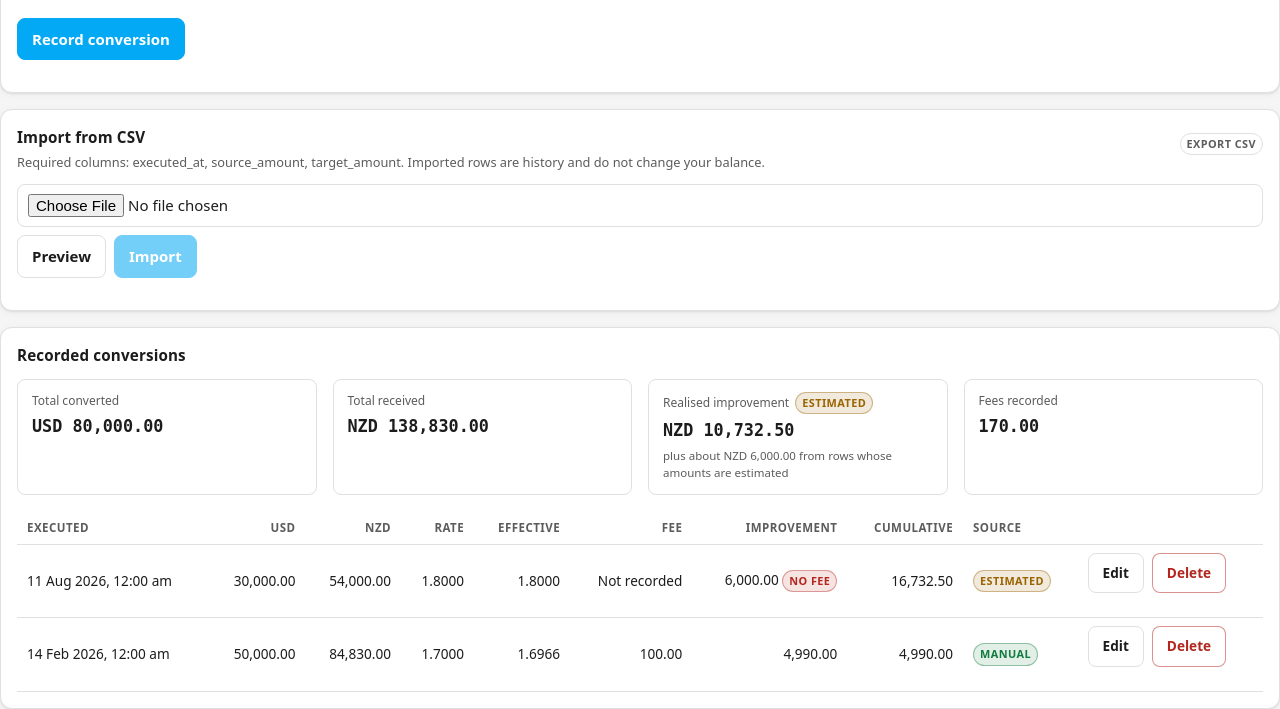
Test: ConversionsPage › warns that an edit does not move the balance
(page scrolled)
Check: the text "30,000.00" is shown, box [234,571,295,590]
Step 1. Click the button "Edit" in the row of "11 Aug 2026, 12:00 am" → (1116, 573), box [1088,553,1144,593]
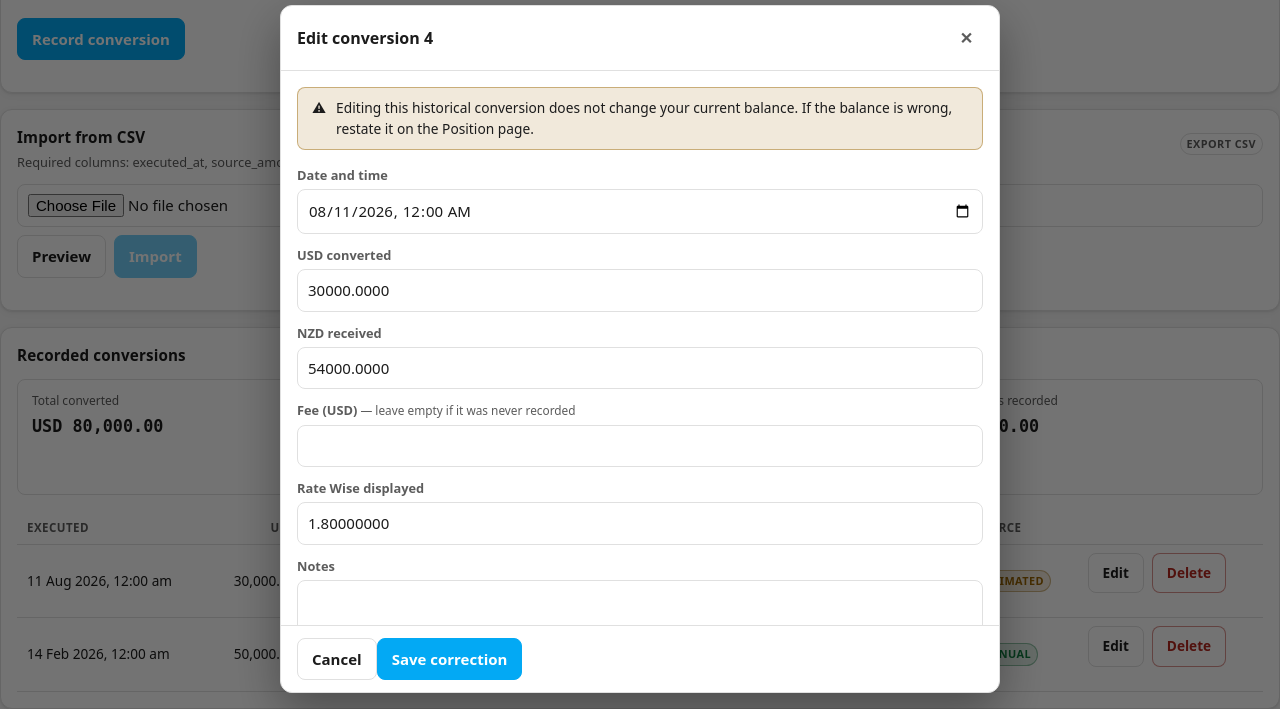
Check: the text "restate it on the Position page" is shown, box [336,98,952,138]
